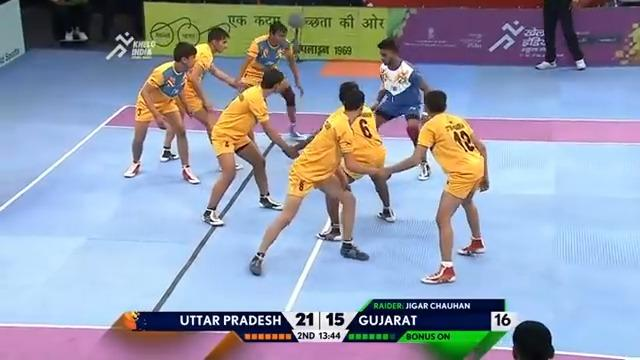Player: (248, 81, 393, 276), (316, 37, 435, 240), (370, 89, 489, 284), (201, 67, 305, 226), (159, 27, 247, 172), (123, 41, 201, 184), (236, 21, 306, 140)
Raider: (369, 37, 435, 181)
referee: (534, 0, 587, 70), (50, 0, 90, 41)
